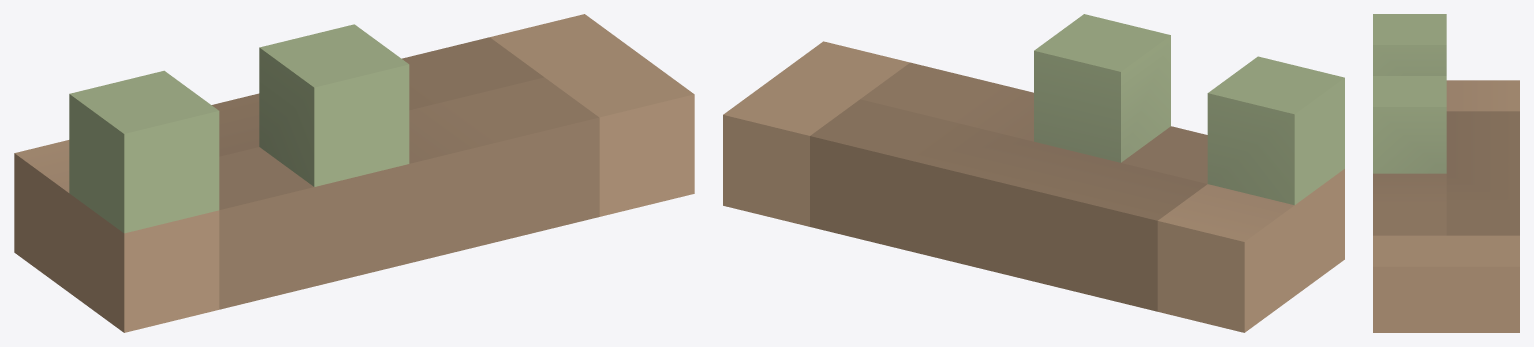
The model's file is decor_log_a.glb.
3 renders of one model, left to right at view 1: azimuth 30°, elevation 25°; view 2: azimuth 150°, elevation 25°; view 3: azimuth 270°, elevation 25°, orthographic. The views are drawn at different scales.
Visible parts, largest first — view 1: decor_log_a; view 2: decor_log_a; view 3: decor_log_a.
Part boxes in pixels (x1=…): decor_log_a: x1=14, y1=14, x2=694, y2=332; decor_log_a: x1=723, y1=14, x2=1344, y2=332; decor_log_a: x1=1373, y1=14, x2=1519, y2=332.
Size of the model in its own units: 0.75 by 0.25 by 0.25.
